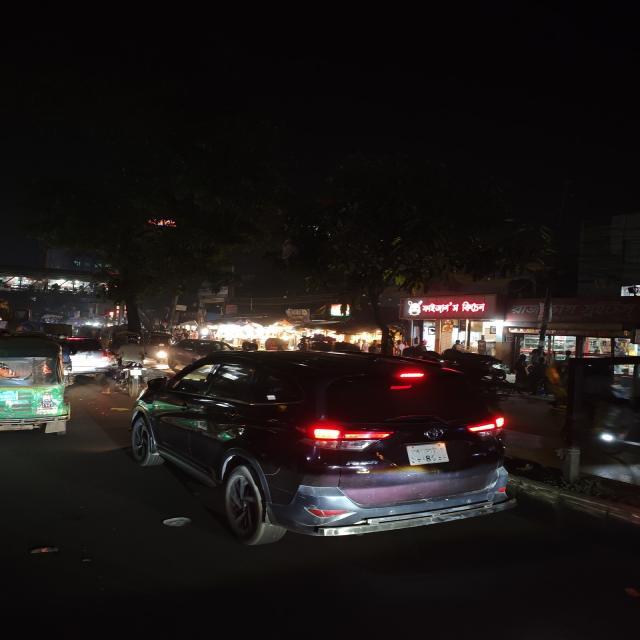car: (126, 343, 506, 546), (69, 334, 112, 380)
cng: (0, 334, 70, 441)
